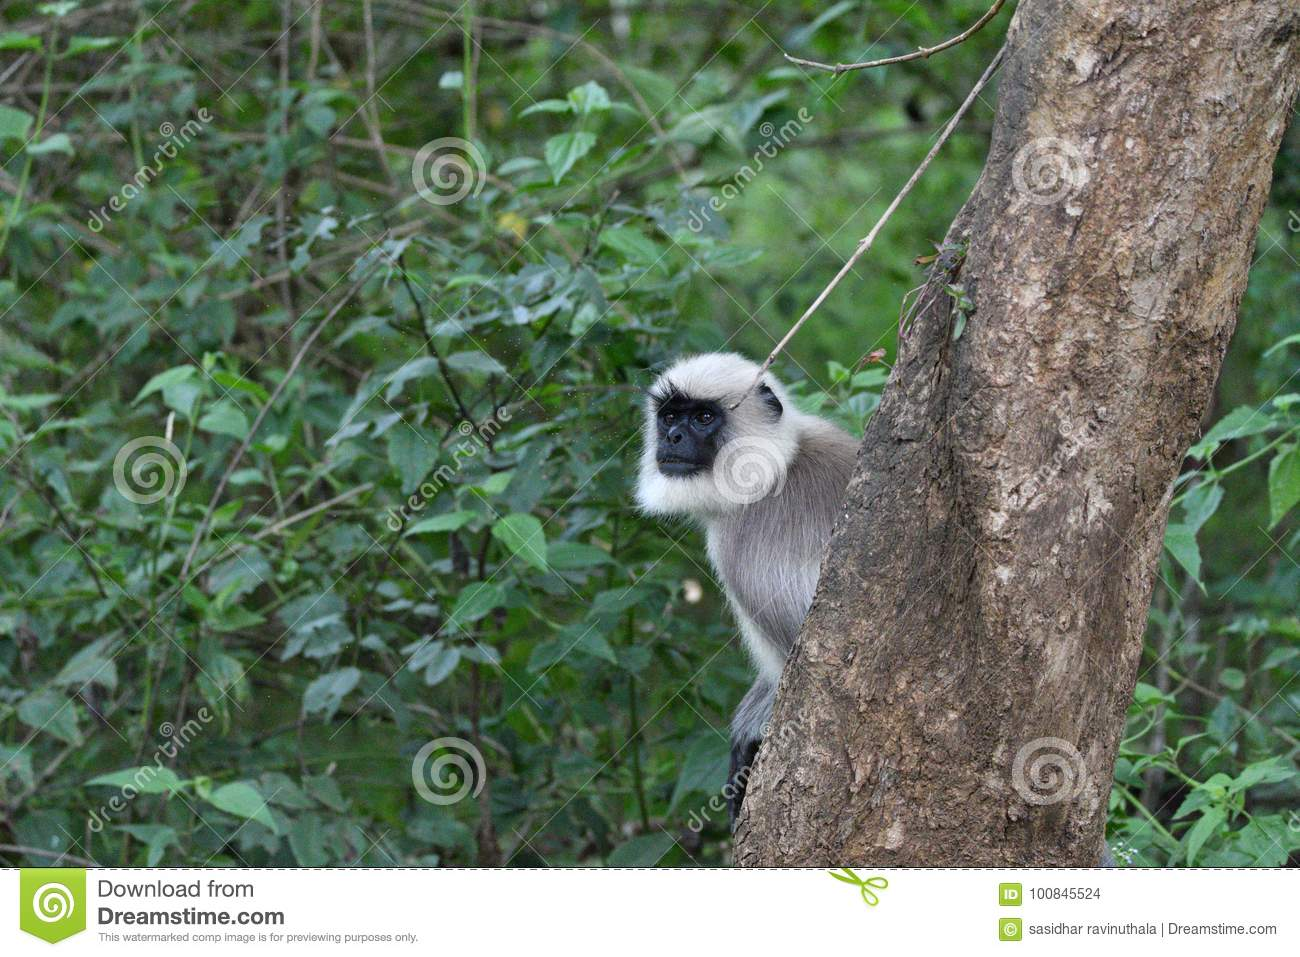monkey: (629, 344, 888, 799)
